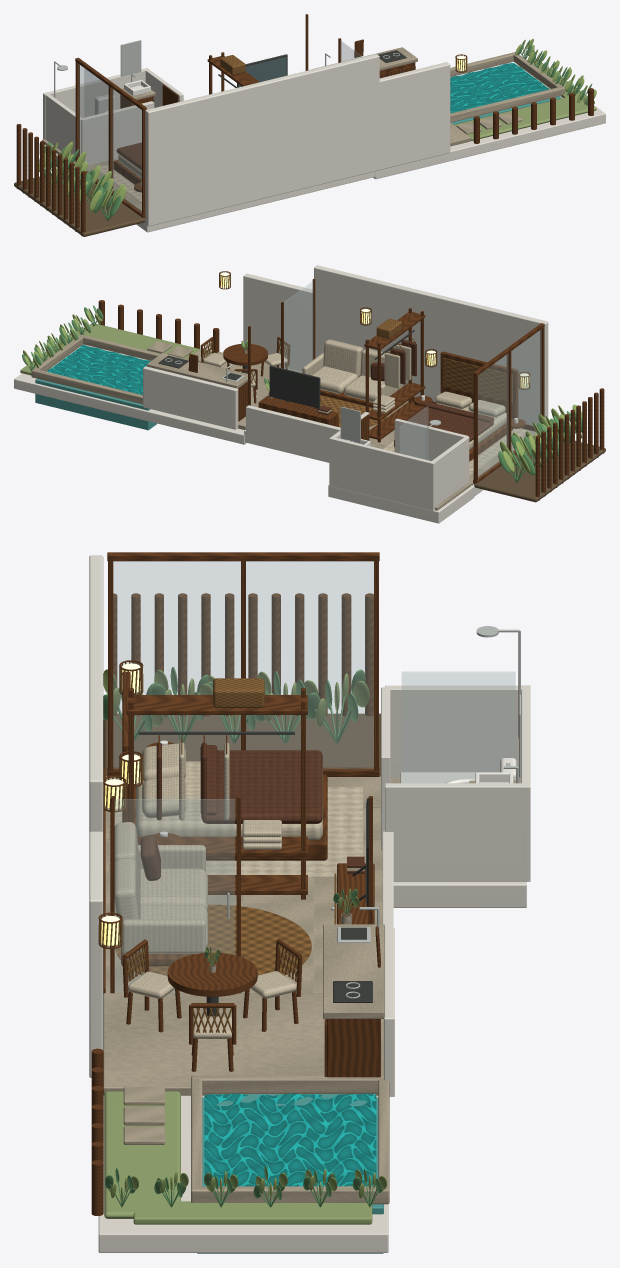
File: sopro-terreo-detalhado.glb
3 views of the same model, one above another, from view 1: azimuth 30°, elevation 25°; view 2: azimuth 150°, elevation 25°; view 3: azimuth 270°, elevation 25° (orthographic). The views are drawn at different scales.
Visible parts, largest first — view 1: 00 Cutaway architecture | INT / Warm plaster, 06 Bathroom fixtures | INT / Warm plaster, 00 Cutaway architecture | INT / Clear glass, 09 Garden and planting | INT / Natural timber, 08 Pool basin and water | INT / Water surface, 09 Garden and planting | INT / Soil, 08 Pool basin and water | INT / Limestone.001, 00 Cutaway architecture | INT / Natural timber, 09 Garden and planting | INT / Young foliage, 09 Garden and planting | INT / Tropical foliage, 09 Garden and planting | INT / Garden lawn, 06 Bathroom fixtures | INT / Clear glass (+14 smaller); view 2: 00 Cutaway architecture | INT / Warm plaster, 06 Bathroom fixtures | INT / Warm plaster, 00 Cutaway architecture | INT / Clear glass, 09 Garden and planting | INT / Natural timber, 07 Gourmet veranda | INT / Warm plaster, 03 Living furniture | INT / Natural linen, 02 Open closet | INT / Natural timber, 08 Pool basin and water | INT / Water surface, 08 Pool basin and water | INT / Limestone.001, 05 Glass partition | INT / Clear glass, 09 Garden and planting | INT / Soil, 00 Cutaway architecture | INT / Natural timber (+24 smaller); view 3: 00 Cutaway architecture | INT / Clear glass, 06 Bathroom fixtures | INT / Warm plaster, 00 Cutaway architecture | INT / Warm plaster, 07 Gourmet veranda | INT / Limestone.001, 05 Glass partition | INT / Clear glass, 08 Pool basin and water | INT / Water surface, 09 Garden and planting | INT / Natural timber, 06 Bathroom fixtures | INT / Clear glass, 09 Garden and planting | INT / Garden lawn, 01 Bedroom and linen | INT / Natural linen, 07 Gourmet veranda | INT / Natural timber, 03 Living furniture | INT / Natural linen (+21 smaller).
Part boxes in pixels (box(x1,y1,x2,y2)): 00 Cutaway architecture | INT / Warm plaster: box(39, 54, 605, 232); 06 Bathroom fixtures | INT / Warm plaster: box(43, 68, 183, 165); 00 Cutaway architecture | INT / Clear glass: box(78, 64, 141, 212); 09 Garden and planting | INT / Natural timber: box(16, 88, 593, 235); 08 Pool basin and water | INT / Water surface: box(450, 63, 549, 112); 09 Garden and planting | INT / Soil: box(14, 174, 145, 236); 08 Pool basin and water | INT / Limestone.001: box(450, 52, 564, 122); 00 Cutaway architecture | INT / Natural timber: box(75, 57, 146, 218); 09 Garden and planting | INT / Young foliage: box(39, 38, 596, 211); 09 Garden and planting | INT / Tropical foliage: box(39, 40, 594, 220); 09 Garden and planting | INT / Garden lawn: box(454, 58, 596, 140); 06 Bathroom fixtures | INT / Clear glass: box(84, 67, 111, 116); 00 Cutaway architecture | INT / Warm plaster: box(14, 265, 548, 523); 06 Bathroom fixtures | INT / Warm plaster: box(329, 412, 469, 510); 00 Cutaway architecture | INT / Clear glass: box(478, 329, 541, 478); 09 Garden and planting | INT / Natural timber: box(98, 300, 604, 500); 07 Gourmet veranda | INT / Warm plaster: box(143, 366, 238, 429); 03 Living furniture | INT / Natural linen: box(302, 339, 402, 402); 02 Open closet | INT / Natural timber: box(364, 308, 425, 442); 08 Pool basin and water | INT / Water surface: box(47, 344, 150, 394); 08 Pool basin and water | INT / Limestone.001: box(31, 334, 160, 404); 05 Glass partition | INT / Clear glass: box(284, 281, 313, 372); 09 Garden and planting | INT / Soil: box(474, 440, 605, 502); 00 Cutaway architecture | INT / Natural timber: box(412, 323, 544, 484); 00 Cutaway architecture | INT / Clear glass: box(113, 561, 373, 768); 06 Bathroom fixtures | INT / Warm plaster: box(381, 685, 530, 881); 00 Cutaway architecture | INT / Warm plaster: box(89, 555, 526, 1252); 07 Gourmet veranda | INT / Limestone.001: box(103, 924, 384, 1095); 05 Glass partition | INT / Clear glass: box(115, 799, 234, 992); 08 Pool basin and water | INT / Water surface: box(204, 1093, 376, 1186); 09 Garden and planting | INT / Natural timber: box(91, 593, 373, 1215); 06 Bathroom fixtures | INT / Clear glass: box(402, 671, 515, 782); 09 Garden and planting | INT / Garden lawn: box(104, 1091, 372, 1224); 01 Bedroom and linen | INT / Natural linen: box(109, 743, 363, 877); 07 Gourmet veranda | INT / Natural timber: box(98, 912, 380, 1077); 03 Living furniture | INT / Natural linen: box(114, 822, 207, 953).
Bounding box in the file's own units: 12.87 × 3.21 × 4.72.
Materials: 18 (6 with a texture image).
